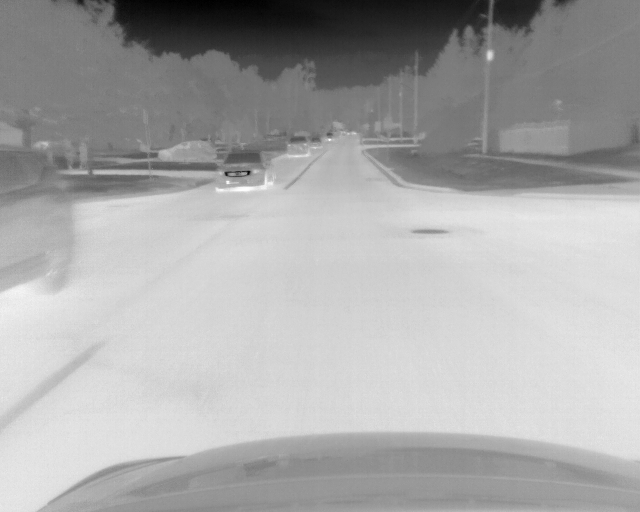car: (1, 144, 74, 295), (213, 147, 276, 194), (156, 140, 216, 163), (286, 136, 311, 157), (308, 134, 322, 149), (322, 130, 335, 143)
